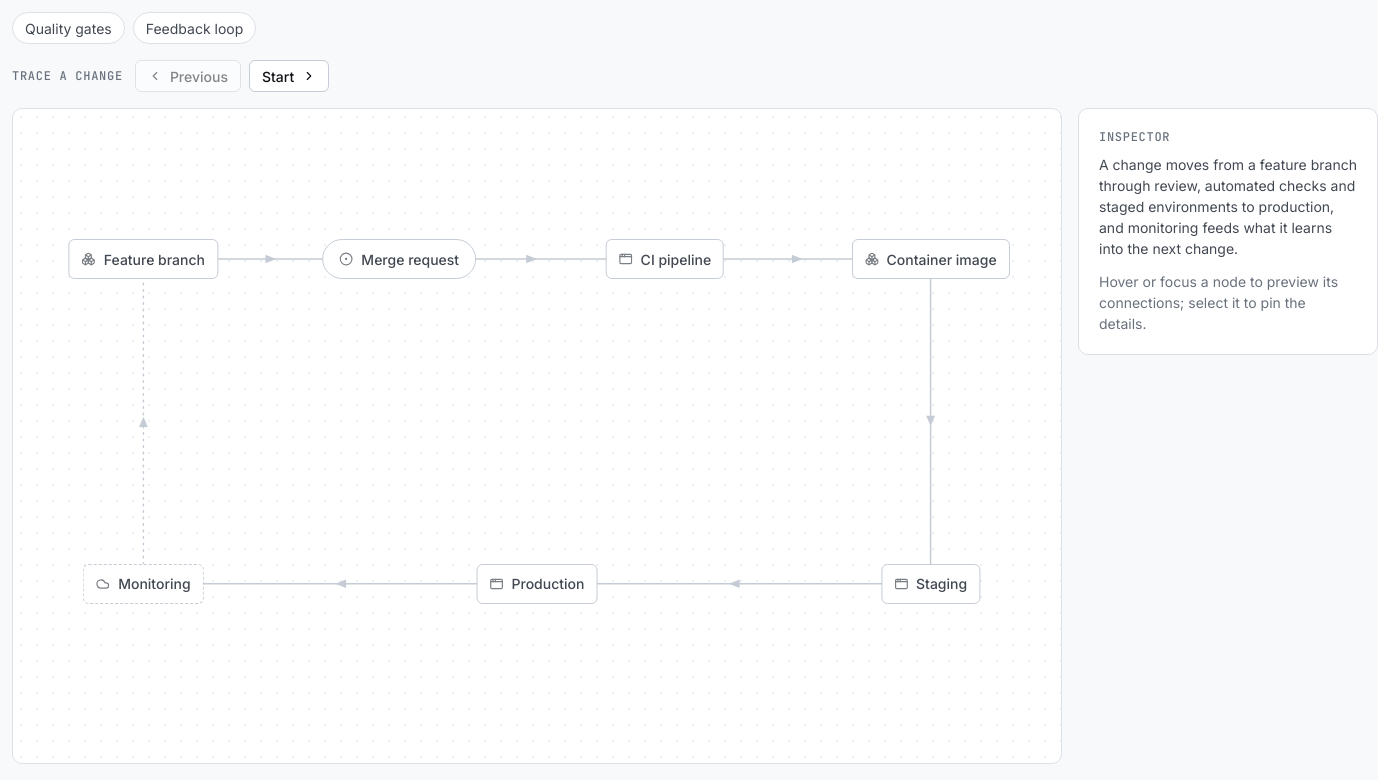
SystemGraph › labels a trace that follows a change rather than a request
The image size is (1378, 780).
Expected: the text "Trace a change" is shown, [12,68,123,84]
Click the button "Start": (289, 76) [249,60,329,92]
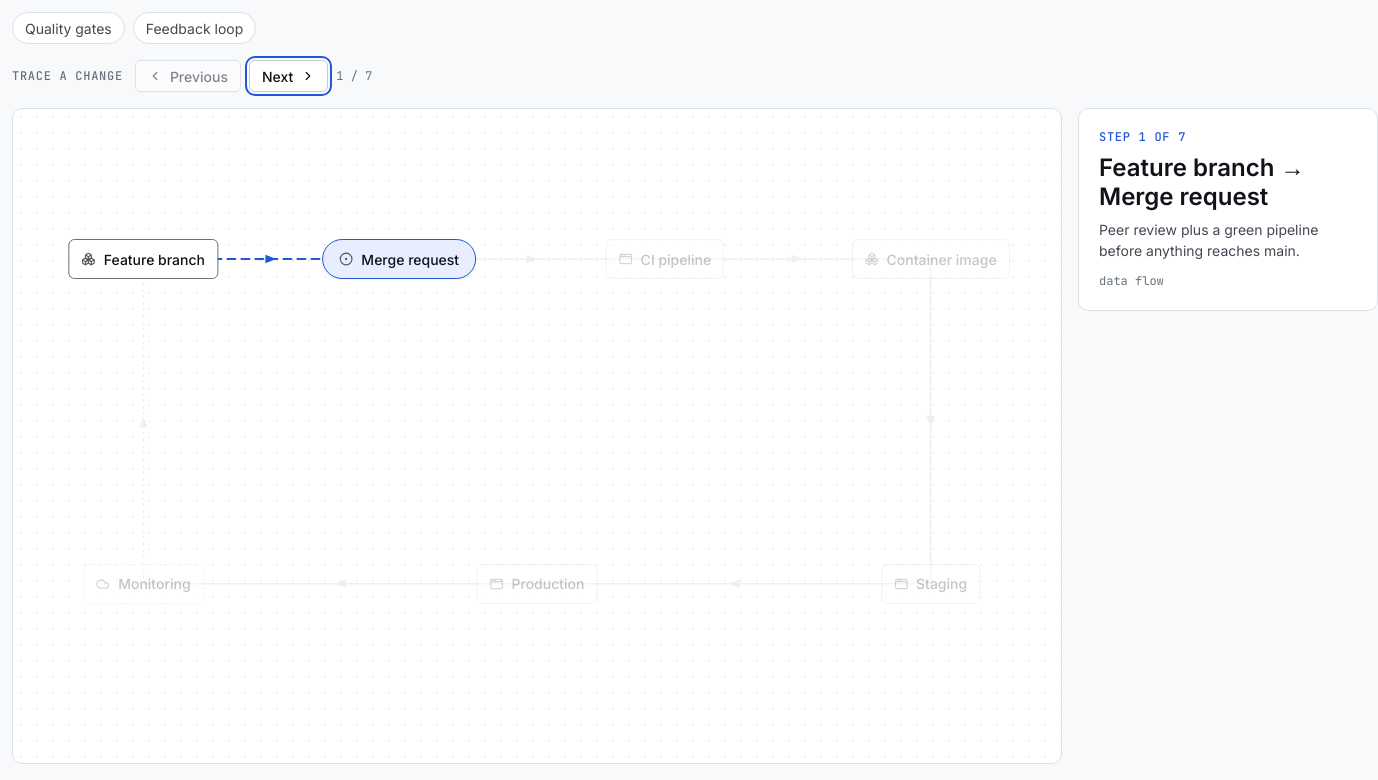
Result: the text "Step 1 of 7" is shown at [1099,129,1186,145]
